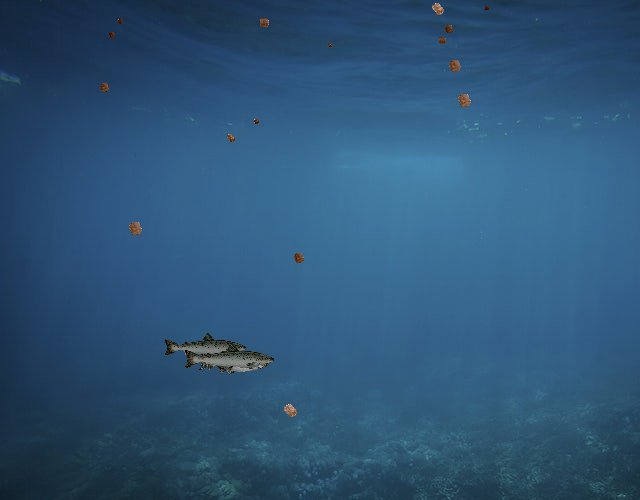Fish: (183, 341, 277, 375), (162, 331, 248, 362), (199, 349, 272, 376)
Pellet: (276, 396, 304, 424), (121, 214, 149, 242), (442, 53, 468, 79), (424, 0, 451, 23), (288, 247, 310, 269), (222, 129, 240, 147), (250, 116, 262, 128)
